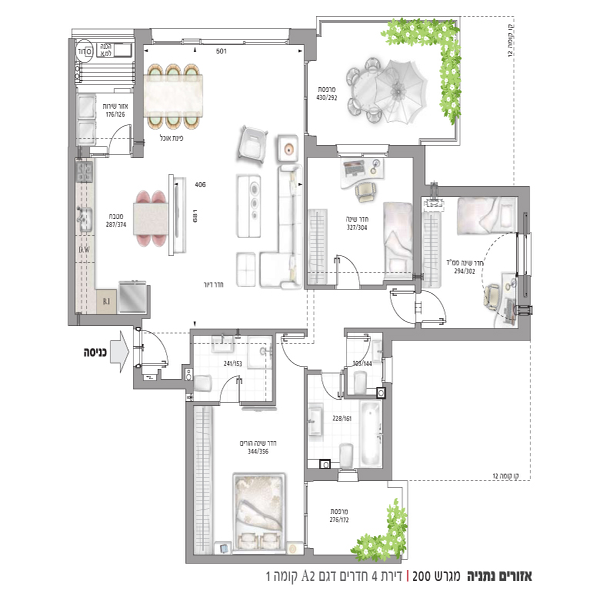door: (136, 325, 176, 373), (386, 285, 423, 325), (333, 249, 367, 291), (345, 330, 376, 367), (278, 334, 313, 365), (424, 289, 451, 327), (318, 371, 346, 404), (107, 126, 131, 159), (222, 374, 243, 404)
room: (63, 152, 313, 339), (184, 328, 315, 566), (135, 39, 313, 144), (299, 138, 422, 289), (423, 181, 534, 345), (316, 328, 394, 484), (67, 33, 145, 161)
wall: (67, 34, 79, 323), (194, 554, 402, 564), (426, 184, 530, 202), (384, 328, 530, 340), (133, 26, 145, 160), (186, 402, 195, 560), (381, 384, 394, 483), (189, 328, 304, 338), (413, 144, 420, 280), (79, 313, 142, 327), (270, 332, 279, 406), (302, 164, 307, 291), (300, 467, 340, 482), (288, 28, 317, 46), (519, 278, 530, 324), (144, 380, 191, 390), (518, 196, 529, 233), (306, 145, 332, 158), (383, 276, 412, 286), (131, 366, 144, 388), (350, 327, 384, 334), (305, 369, 307, 480), (305, 44, 318, 60), (391, 144, 408, 156), (309, 286, 334, 294)
